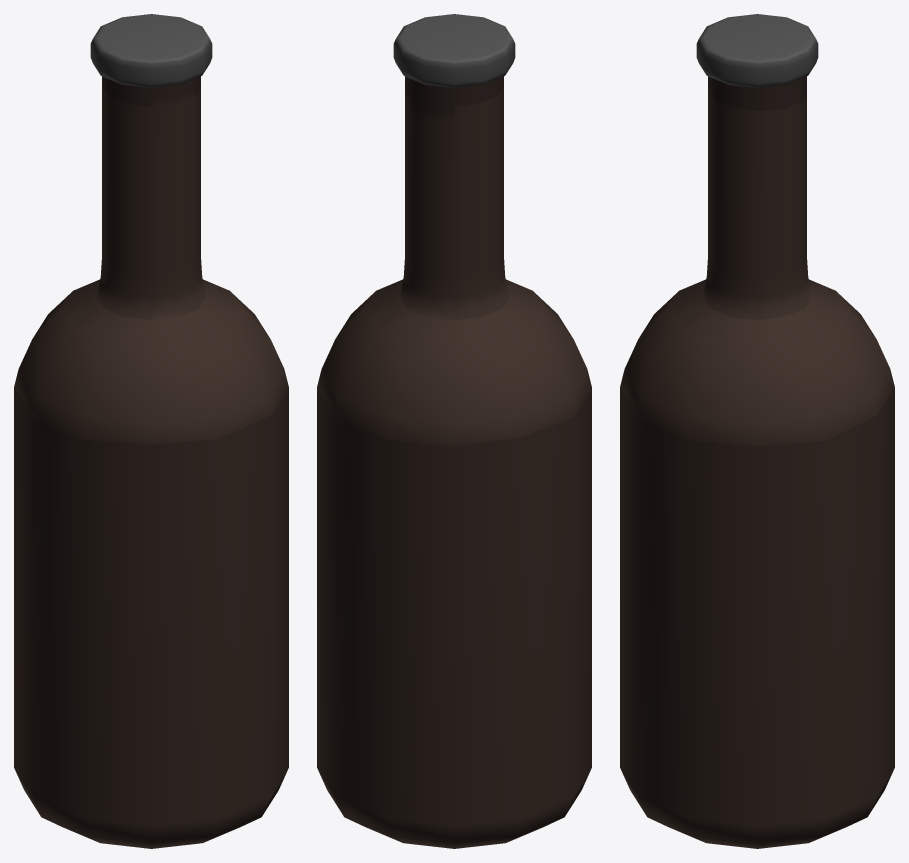
File: Bottle02.fbx
The picture shows the model from 3 angles, left to right: view 1: azimuth 30°, elevation 25°; view 2: azimuth 150°, elevation 25°; view 3: azimuth 270°, elevation 25°; orthographic projection.
Parts seen in each view (by area): view 1: Bottle2; view 2: Bottle2; view 3: Bottle2.
Part boxes in pixels (x1,y1,x2,y2): Bottle2: (14, 14, 288, 848); Bottle2: (317, 14, 591, 848); Bottle2: (620, 14, 894, 848).
Bounding box in the file's own units: 34.5 × 106 × 34.5.
